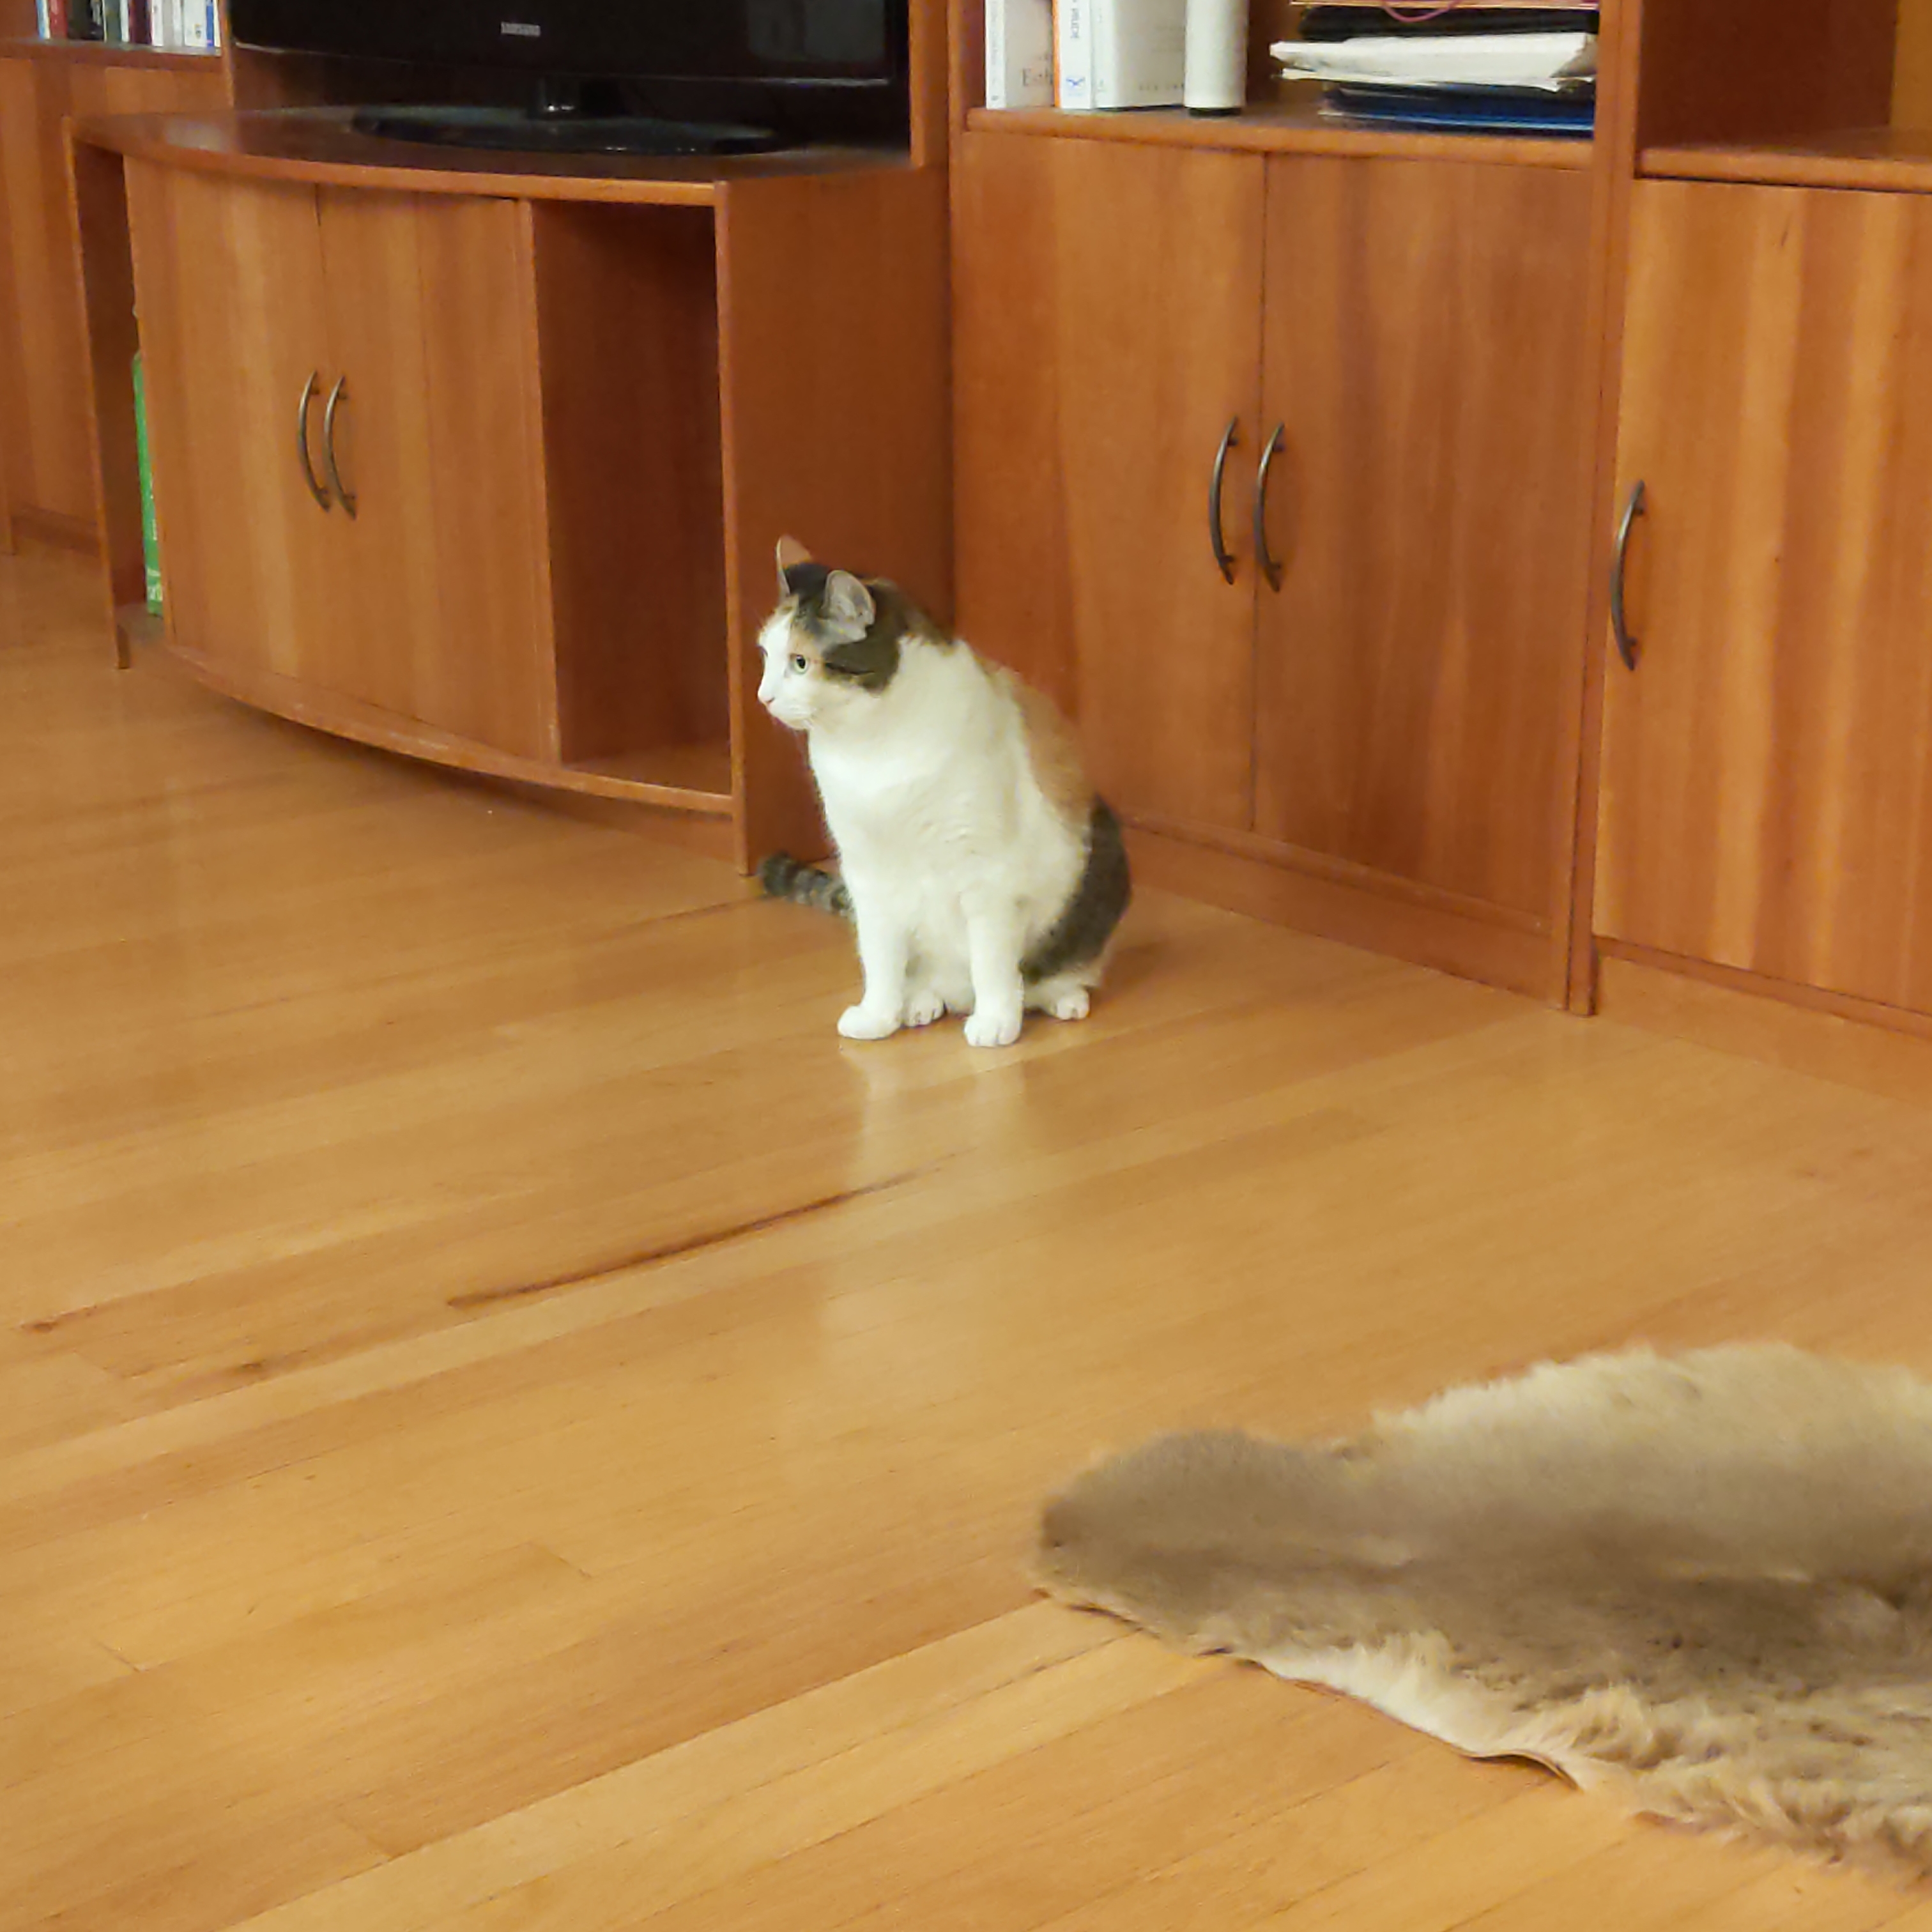Calico: (757, 533, 1136, 1053)
